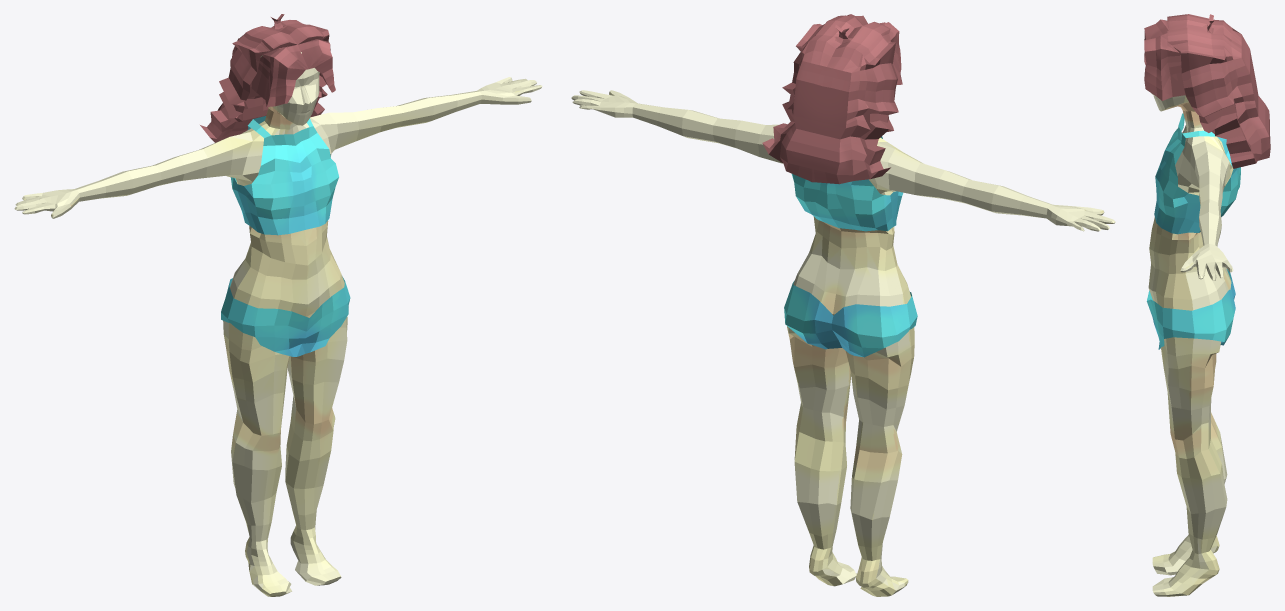
The model's file is MC2_Pool.fbx.
3 views of the same model, side by side, from view 1: azimuth 30°, elevation 25°; view 2: azimuth 150°, elevation 25°; view 3: azimuth 270°, elevation 25° (orthographic). The views are drawn at different scales.
Parts seen in each view (by area): view 1: Body, Haare, Shirt, Hose; view 2: Body, Haare, Hose, Shirt; view 3: Body, Haare, Shirt, Hose.
Boxes of the visible parts, <box> form: Body: <box>14,52,542,596</box>; Haare: <box>200,14,335,142</box>; Shirt: <box>230,116,338,235</box>; Hose: <box>221,276,350,356</box>; Body: <box>571,90,1115,596</box>; Haare: <box>762,14,902,184</box>; Hose: <box>784,280,917,357</box>; Shirt: <box>791,136,903,231</box>; Body: <box>1148,93,1233,596</box>; Haare: <box>1144,14,1270,168</box>; Shirt: <box>1154,113,1240,234</box>; Hose: <box>1146,269,1235,349</box>.
Size of the model in its own units: 319 by 325 by 65.95.
